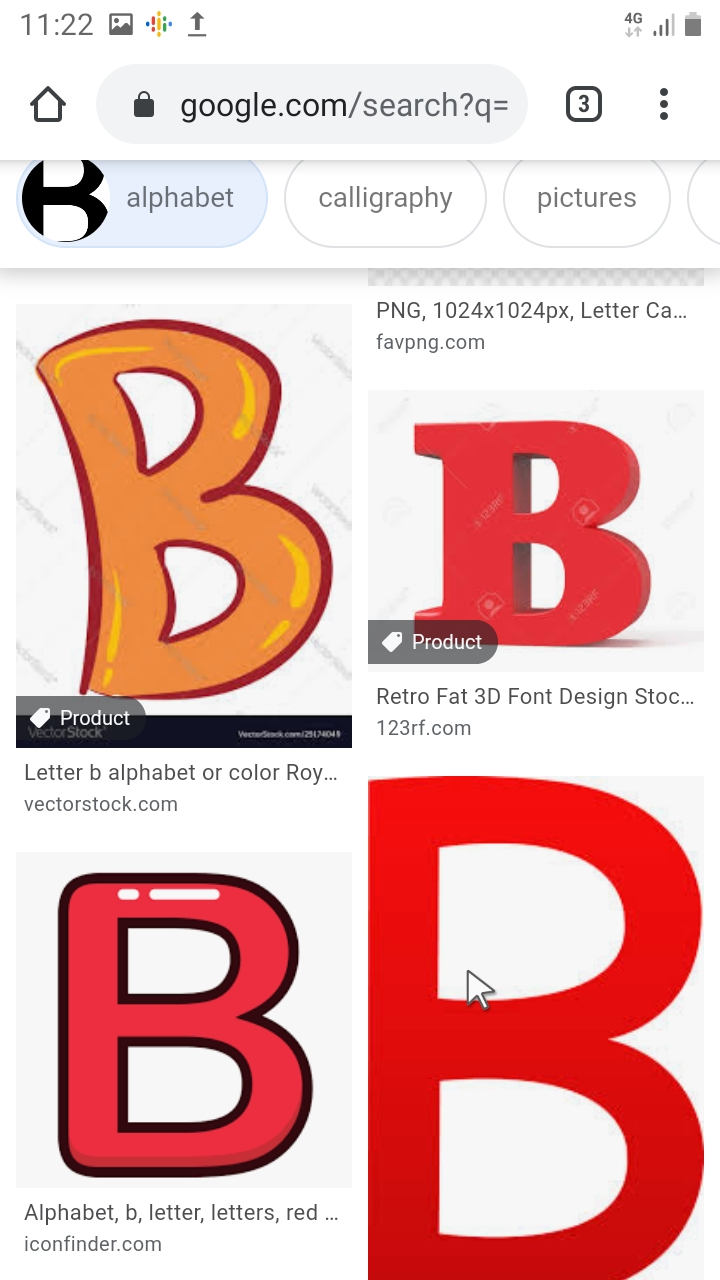zone B: (355, 768, 716, 1280), (27, 312, 333, 702), (45, 870, 327, 1190), (408, 414, 661, 641)
